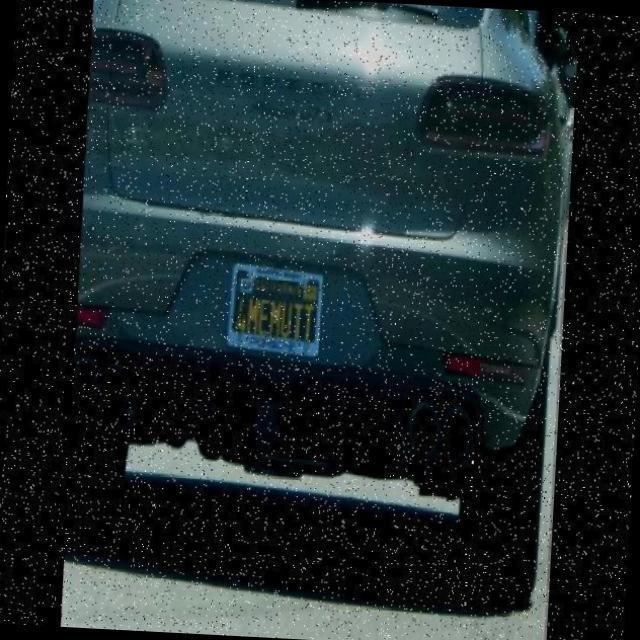License Plate: (227, 264, 326, 358)
